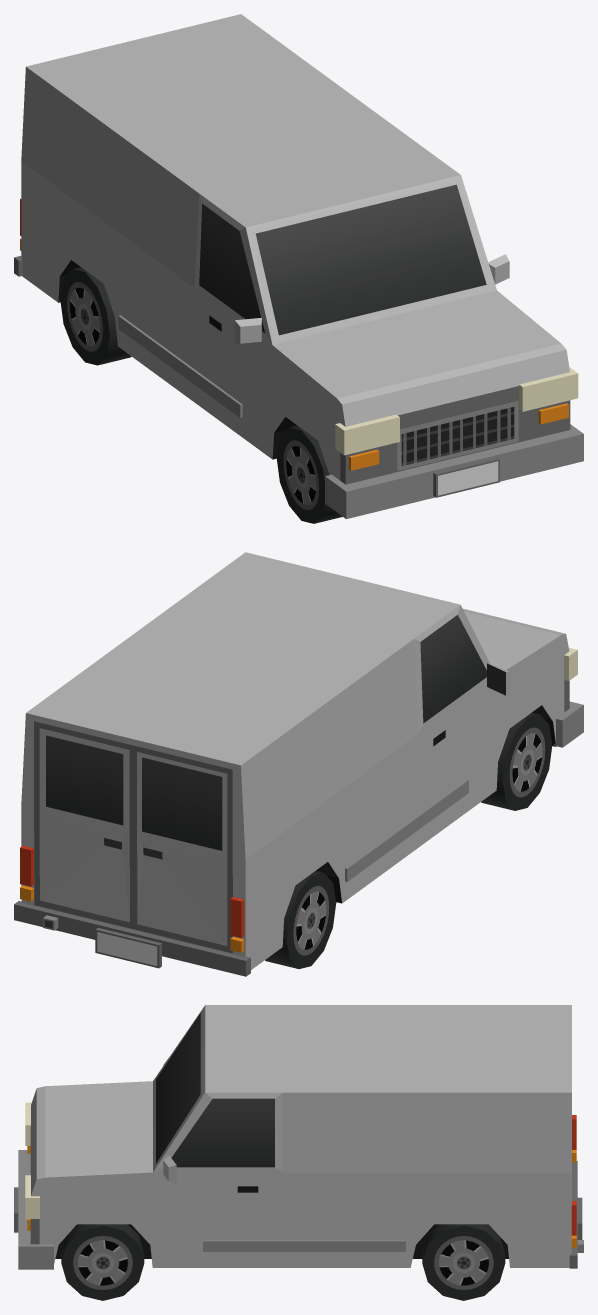
Rendered from VanA.fbx.
3 renders of one model, top to bottom at view 1: azimuth 30°, elevation 25°; view 2: azimuth 150°, elevation 25°; view 3: azimuth 270°, elevation 25°, orthographic. The views are drawn at different scales.
Parts seen in each view (by area): view 1: VanA, TireBR, TireFR; view 2: VanA, TireFR, TireBR; view 3: VanA, TireFL, TireBL.
Boxes of the visible parts, <box> form: VanA: <box>14,14,583,518</box>; TireBR: <box>60,267,131,365</box>; TireFR: <box>276,425,342,523</box>; VanA: <box>14,552,583,976</box>; TireFR: <box>481,712,552,810</box>; TireBR: <box>265,871,336,968</box>; VanA: <box>14,1005,583,1269</box>; TireFL: <box>61,1224,144,1300</box>; TireBL: <box>422,1224,505,1300</box>.
Bounding box in the file's own units: 204 × 178 × 446.
